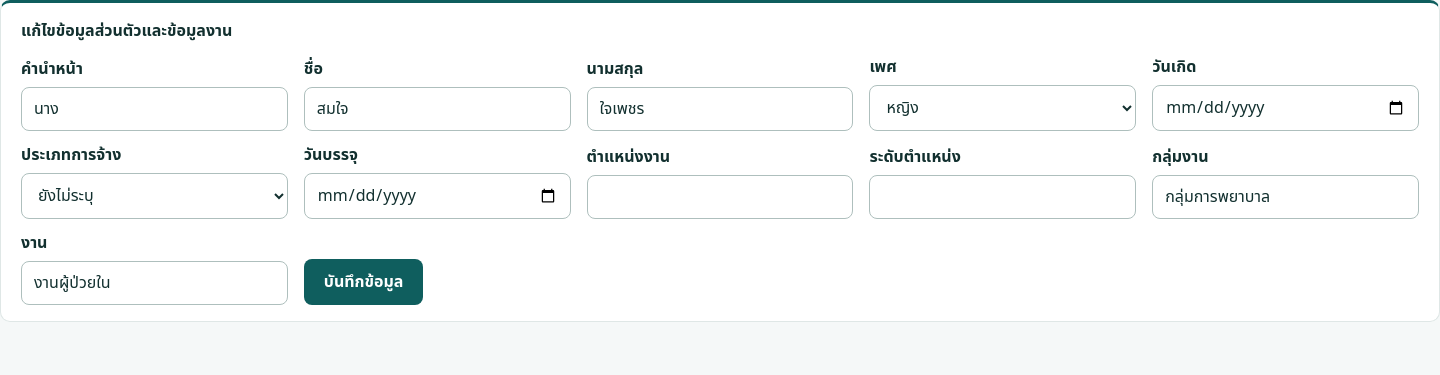
Test case: ProfileForm กลุ่มงาน and งาน › refuses a name that matches no unit without saving
Replace the text in the field labelled "กลุ่มงาน" with "กลุ่มที่ไม่มี" at (1286, 197), box [1152,175,1419,219]
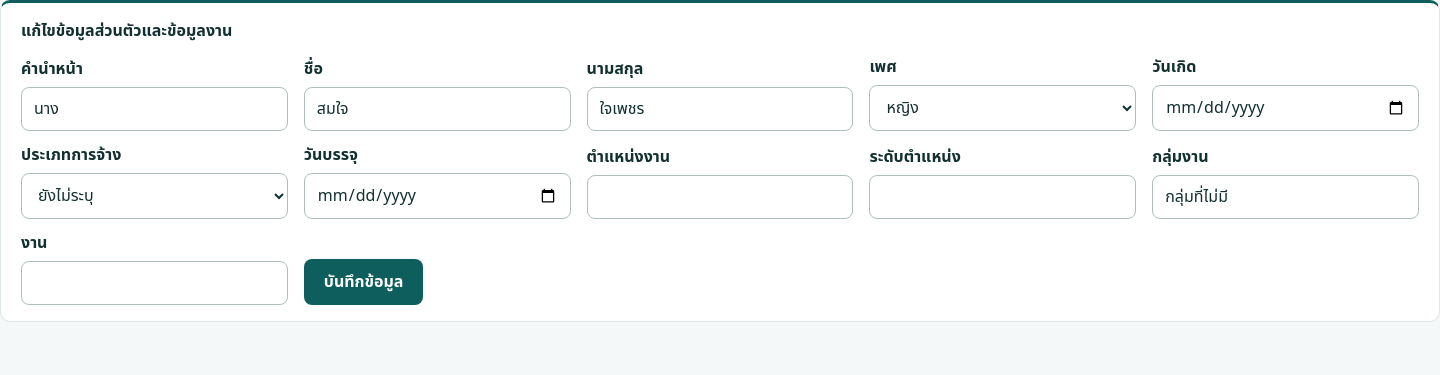
Click the button "บันทึกข้อมูล" at (364, 282), box [304,259,424,305]
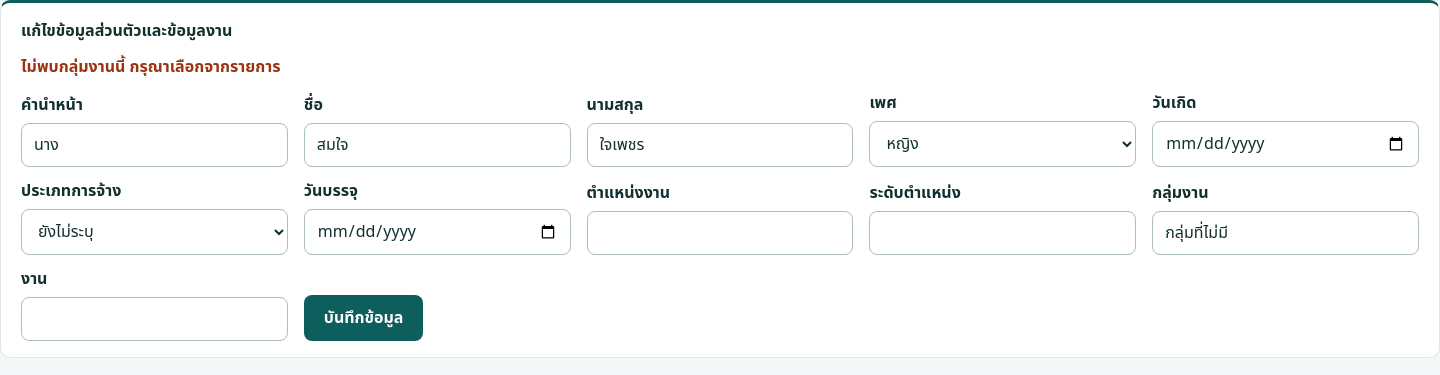
Now the message reads "ไม่พบกลุ่มงานนี้ กรุณาเลือกจากรายการ", box [21,55,280,79]
Replace the text in the field labelled "กลุ่มงาน" with "กลุ่มงานการแพทย์" at (1286, 233), box [1152,211,1419,255]
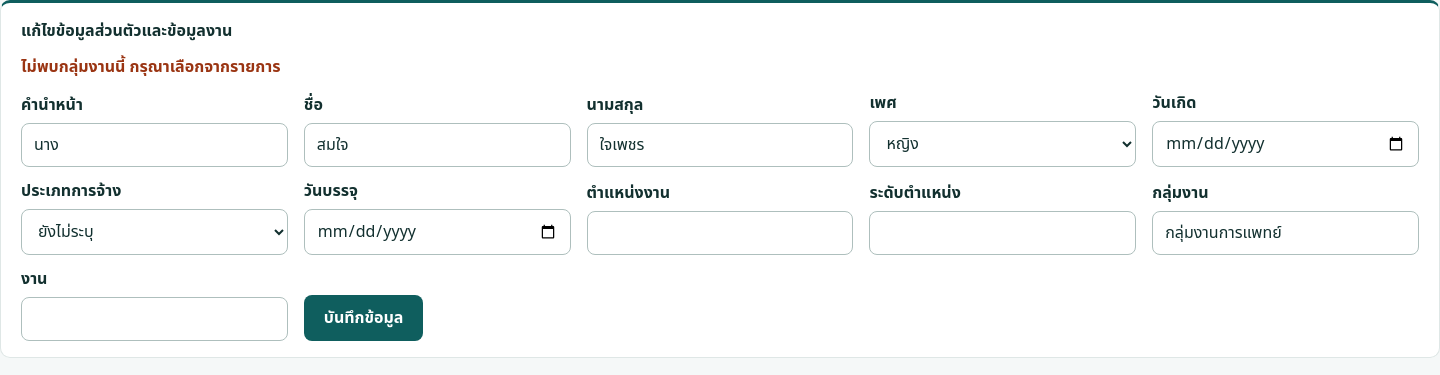
Type "งานผู้ป่วยใน" into the field labelled "งาน" at (154, 319), box [21,297,288,341]
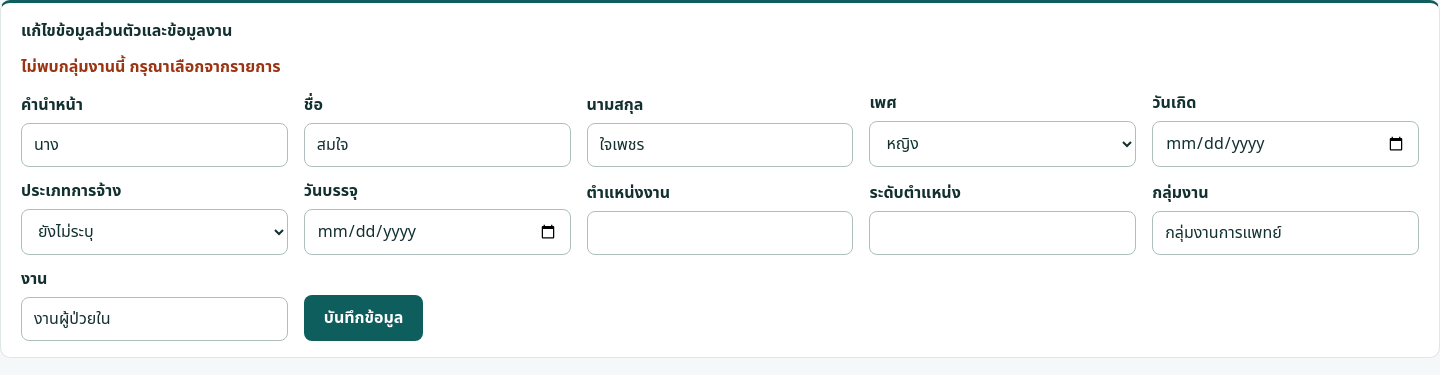
Click the button "บันทึกข้อมูล" at (364, 318), box [304,295,424,341]
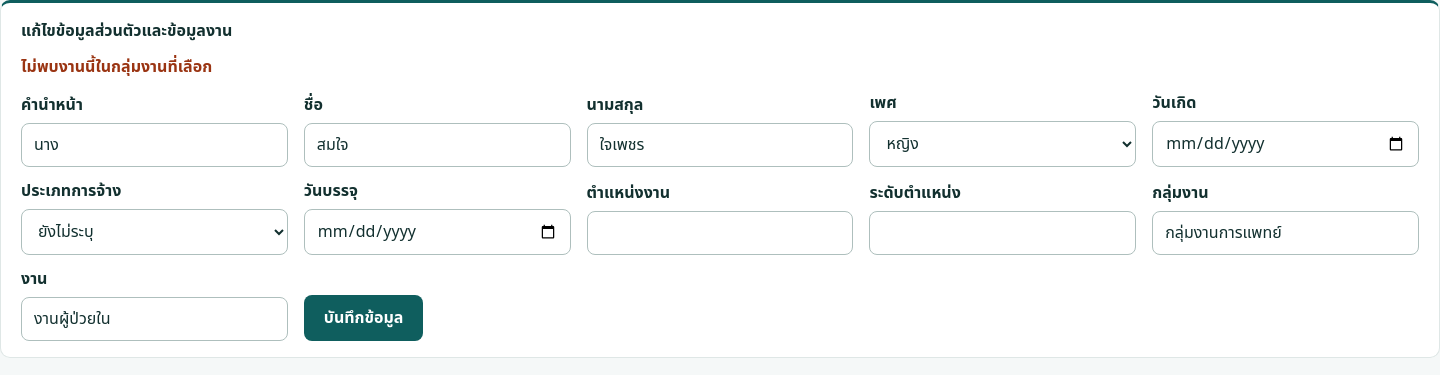
Now the message reads "ไม่พบงานนี้ในกลุ่มงานที่เลือก", box [21,55,212,79]
